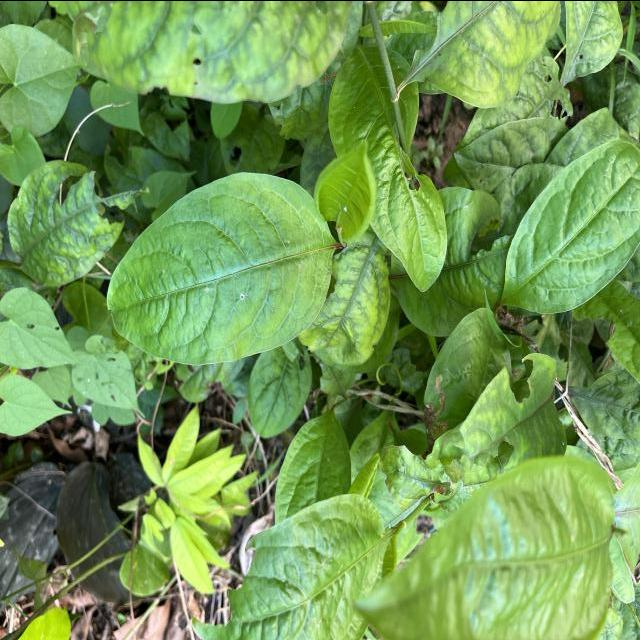Plumbago indica: (101, 168, 342, 368), (498, 134, 640, 322), (9, 161, 110, 302)
